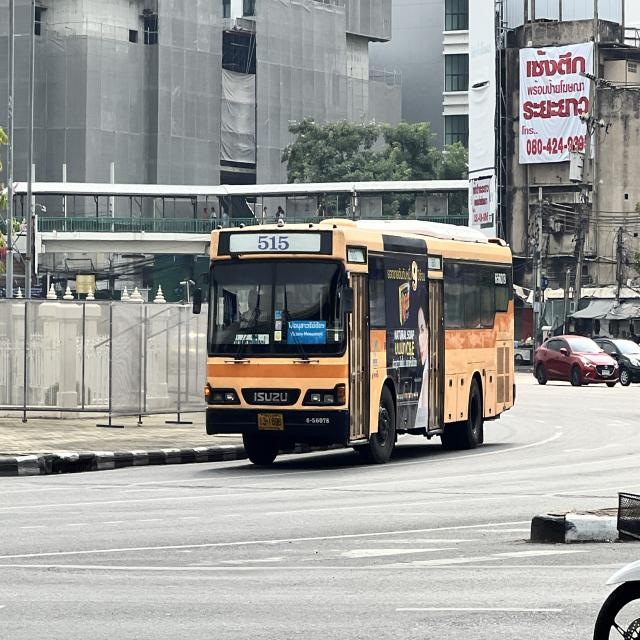BMTA-bus: (203, 221, 517, 470)
Bus-Line-Number: (254, 233, 294, 252)
Destination-Sign-Normal: (287, 320, 326, 344)
